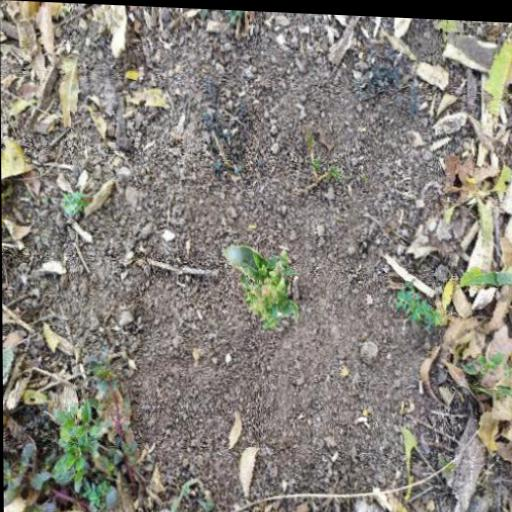weed: (202, 234, 329, 361)
